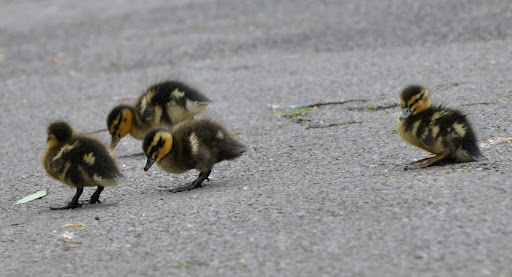duckling: (389, 80, 490, 173), (103, 79, 213, 156), (41, 119, 127, 210), (140, 129, 249, 191)
